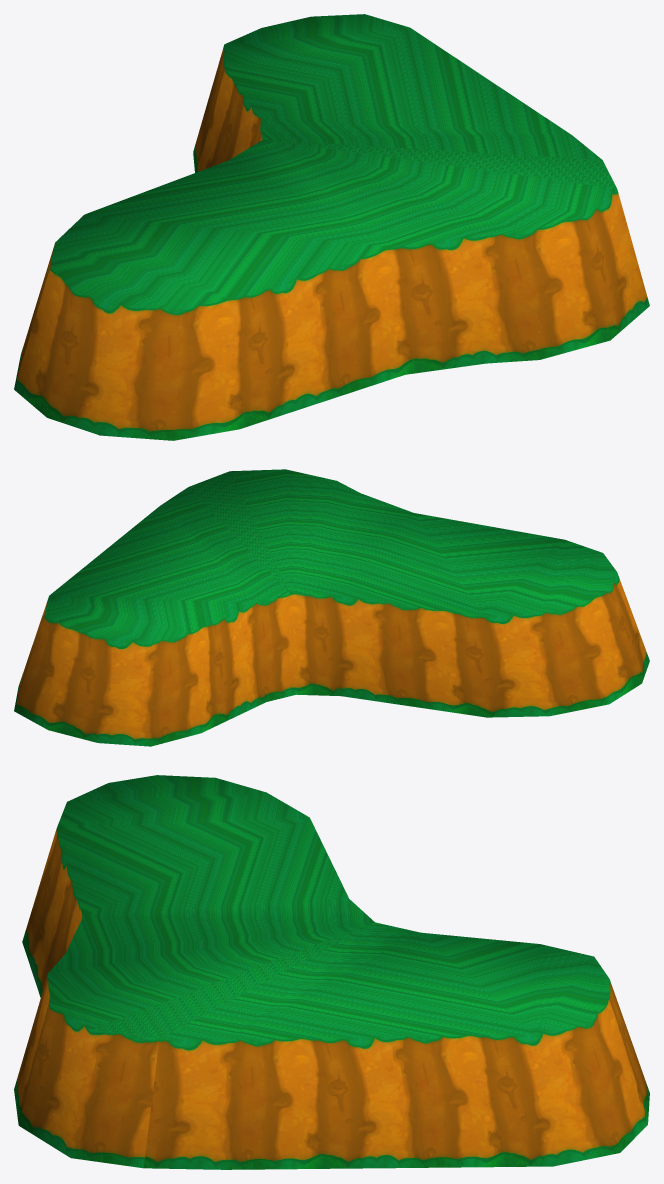
Rendered from Hill01_e01_col.FBX.
3 renders of one model, top to bottom at view 1: azimuth 30°, elevation 25°; view 2: azimuth 150°, elevation 25°; view 3: azimuth 270°, elevation 25°, orthographic. The views are drawn at different scales.
Visible parts, largest first — view 1: Hill01_e01_col; view 2: Hill01_e01_col; view 3: Hill01_e01_col.
Part boxes in pixels (bbox=[...]): Hill01_e01_col: bbox=[14, 14, 649, 440]; Hill01_e01_col: bbox=[14, 469, 649, 746]; Hill01_e01_col: bbox=[14, 775, 649, 1169].
Bounding box in the file's own units: 1372 × 256 × 1255.
